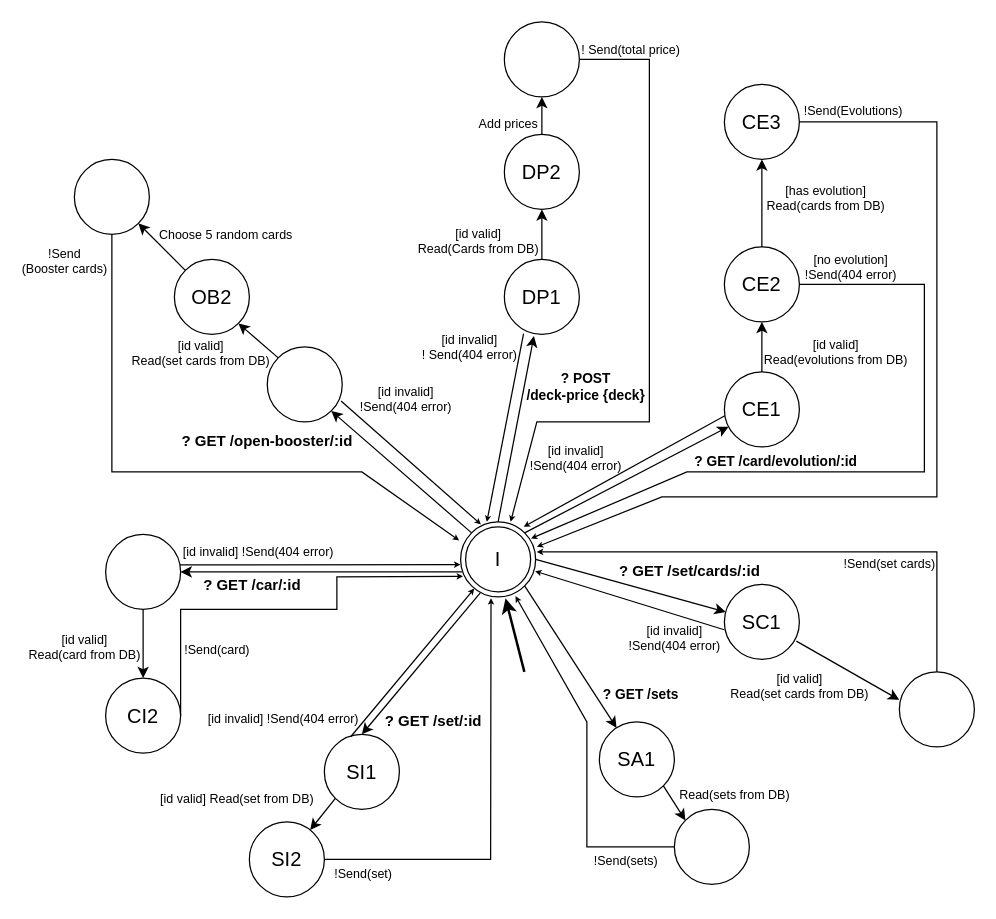
Some shapes in this 996 by 919 pixel diagram are drawn without their labels. Each missing label, with the box of its shape:
CI1: (104, 533, 181, 609)
DP3: (503, 21, 579, 97)
OB1: (266, 346, 342, 422)
OB3: (73, 158, 149, 234)
SA2: (673, 808, 749, 884)
SC2: (898, 671, 974, 747)
